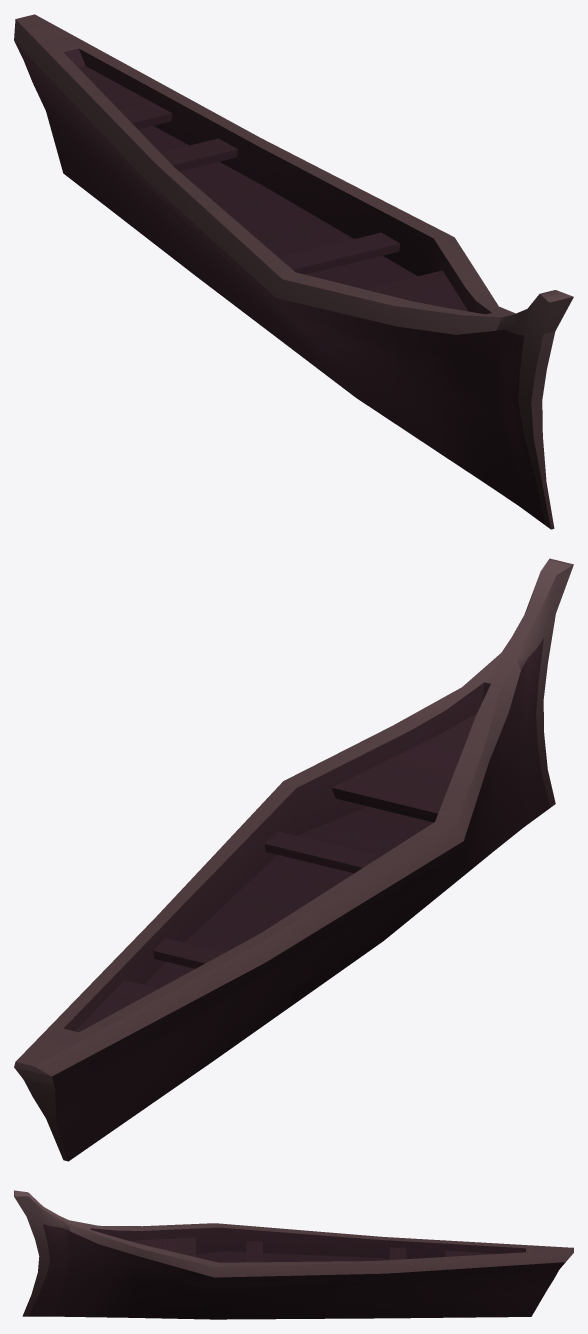
File: barcowo.fbx
3 renders of one model, top to bottom at view 1: azimuth 30°, elevation 25°; view 2: azimuth 150°, elevation 25°; view 3: azimuth 270°, elevation 25°, orthographic. The views are drawn at different scales.
Parts seen in each view (by area): view 1: Barco; view 2: Barco; view 3: Barco.
Boxes of the visible parts, x1,y1,x2,y2 form: Barco: (14,14,573,529); Barco: (14,558,573,1161); Barco: (14,1190,573,1319).
Size of the model in its own units: 5.42 by 6.53 by 26.97.
Materials: 1 (1 with a texture image).
